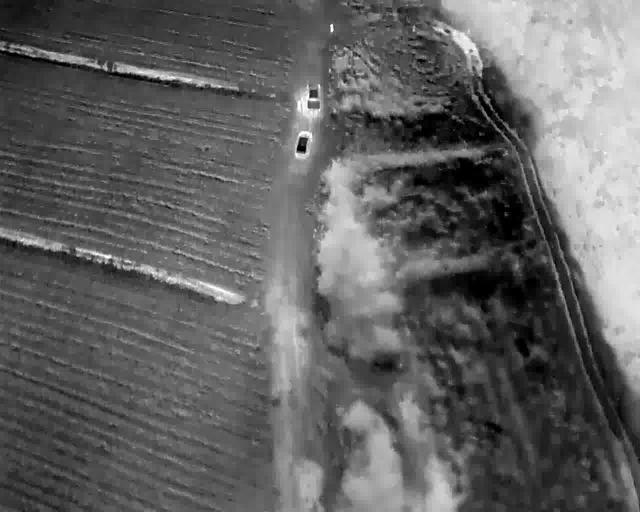car: (295, 130, 312, 157), (305, 83, 321, 111)
person: (329, 23, 334, 33), (297, 100, 301, 111)
